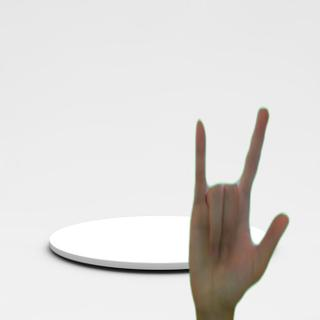ILY: (181, 104, 292, 319)
